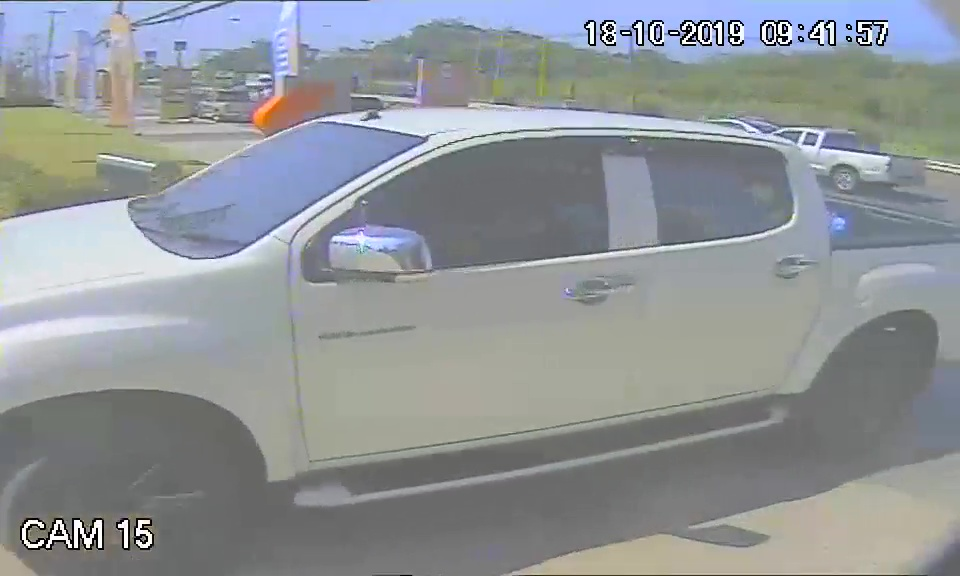pickup: (6, 108, 817, 478)
